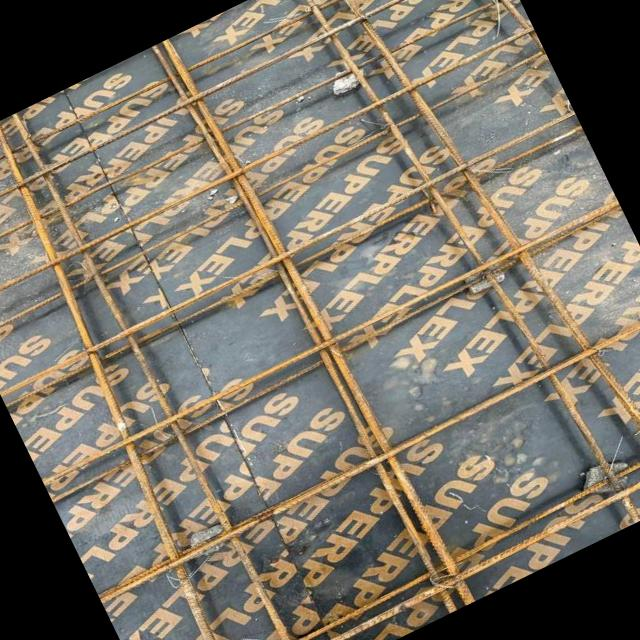ribbed bar: (288, 0, 640, 553), (163, 25, 475, 615), (149, 33, 459, 622), (44, 205, 628, 504), (317, 0, 640, 540), (0, 107, 575, 396), (4, 122, 582, 408), (41, 198, 618, 484), (93, 306, 640, 605), (9, 104, 313, 640), (0, 49, 548, 340), (0, 25, 533, 311), (0, 120, 279, 640), (0, 0, 516, 275), (0, 0, 497, 235), (147, 415, 640, 640), (0, 0, 486, 214), (155, 432, 640, 640), (422, 0, 530, 45)
